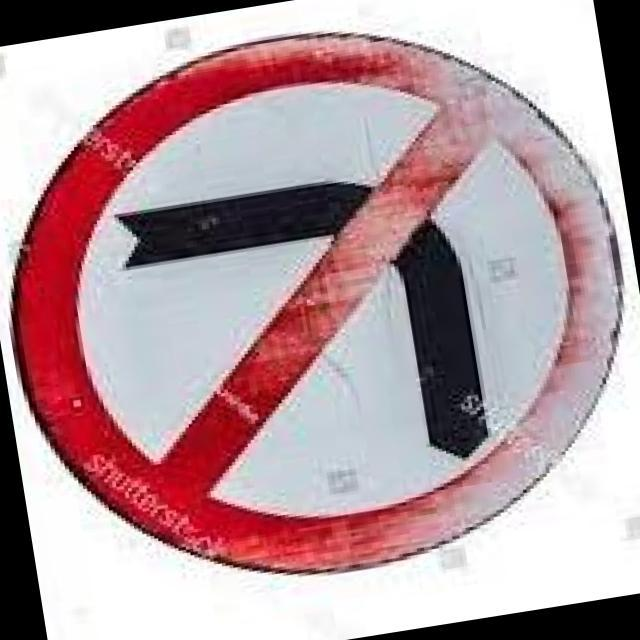obstructed_road_sign: (14, 34, 621, 572)
